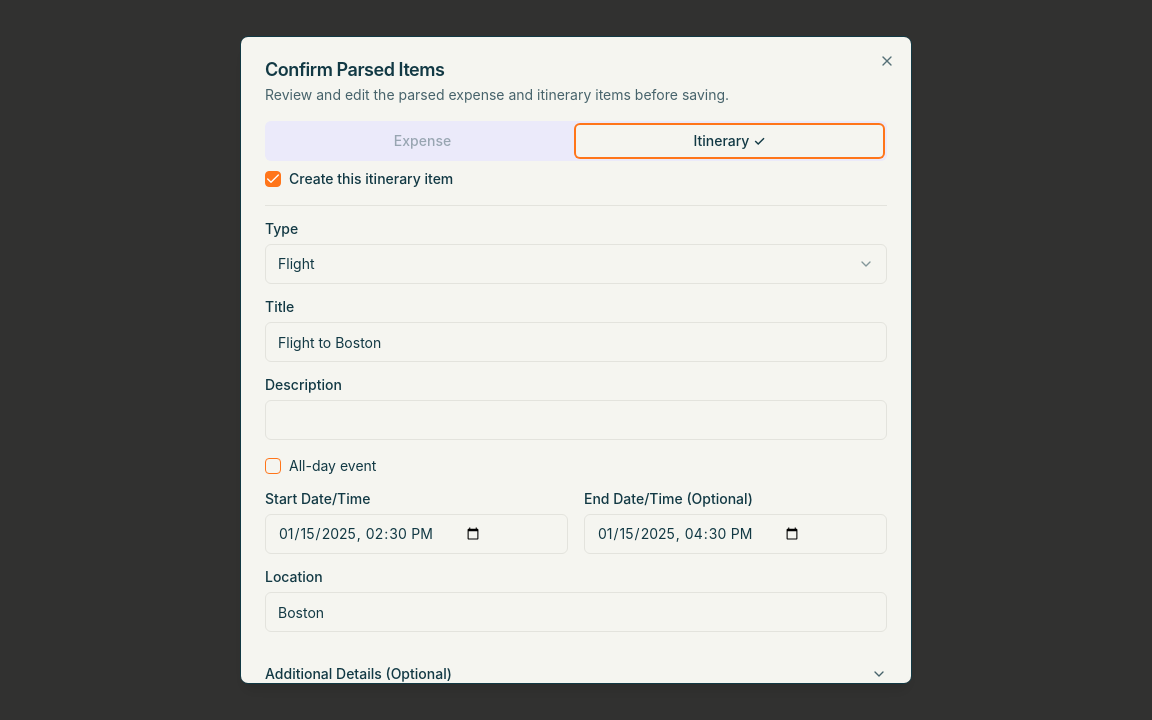
Test: ParsedItemModal - Itinerary Metadata › Type-Specific Metadata › disables metadata fields when create checkbox unchecked
The width and height of the screenshot is (1152, 720).
Click the checkbox named "create this itinerary item" next to "Create this itinerary item".
click(273, 179)  # box [265,171,281,187]
(page scrolled)
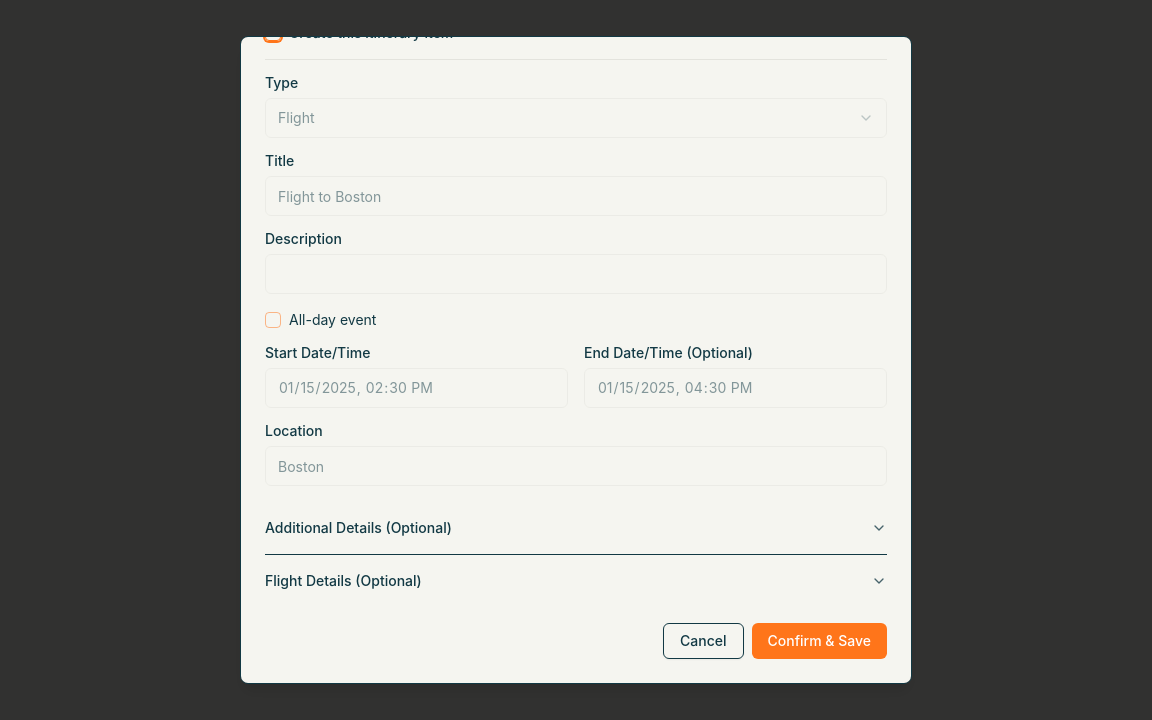
Click the button "Flight Details (Optional)".
click(343, 580)  # box [265,555,887,607]
(page scrolled)
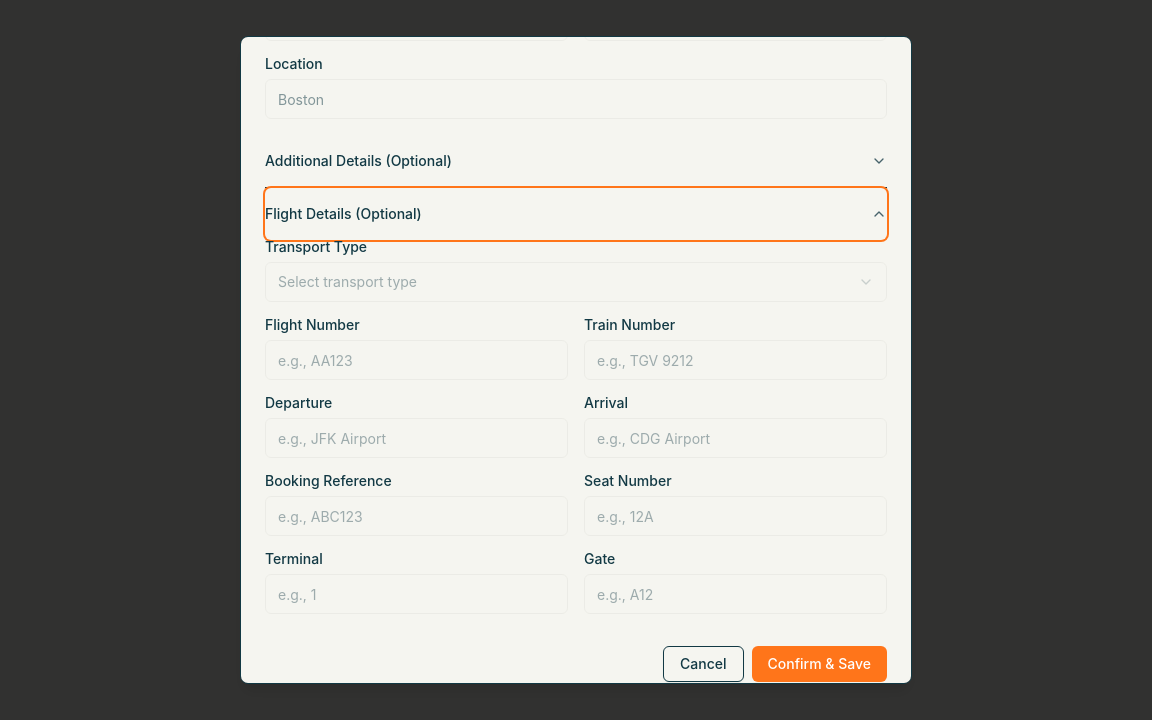
Now the field labelled "Flight Number" is disabled, box [265,340,568,380]
